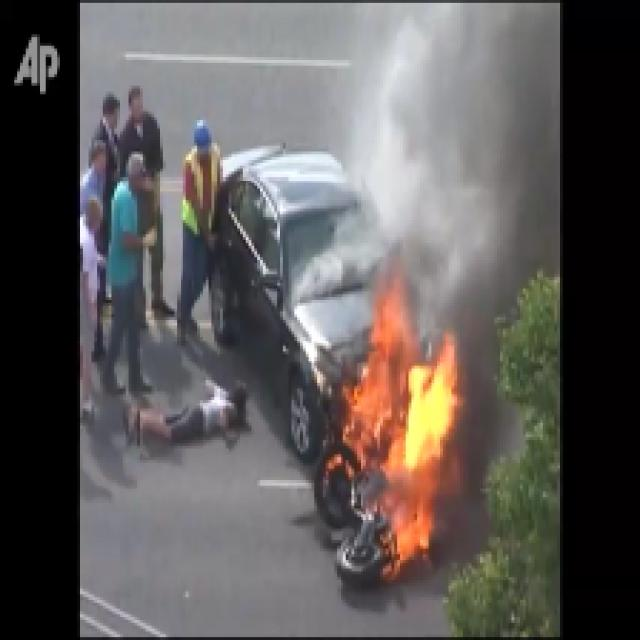fire: (339, 330, 454, 572)
smoke: (360, 7, 557, 276)
